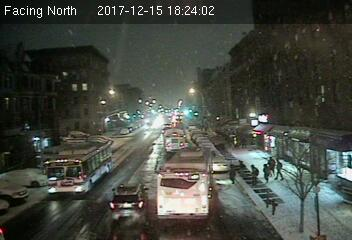bus: (156, 147, 216, 219), (45, 141, 110, 197)
car: (110, 184, 149, 223), (213, 155, 228, 171)
pedestrian: (249, 160, 260, 184), (274, 158, 284, 183), (262, 163, 272, 184), (229, 163, 238, 184)
truck: (164, 128, 185, 153)
